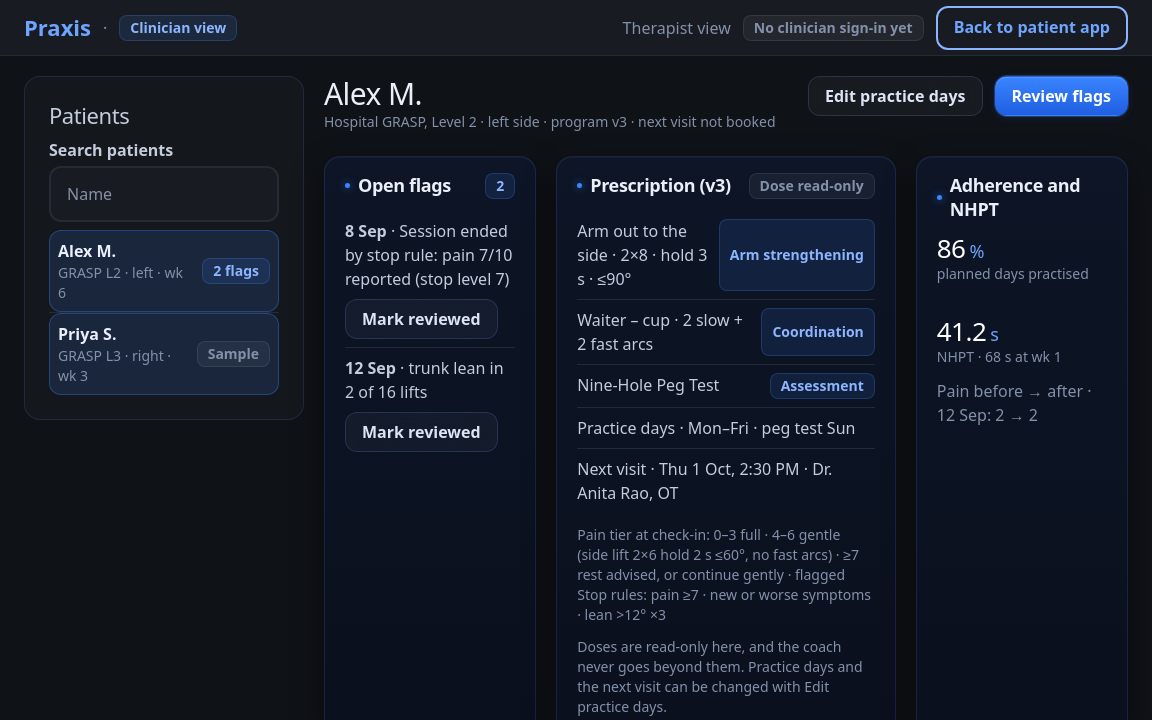
Test: a refused schedule save says therapist only and that nothing changed; the dialog stays open
Expected: the heading "Alex M." is shown, [324,73,422,114]
Expected: the element named "Prescription" shows "Practice days · Mon–Fri · peg test Sun", [577,211,875,717]
Click the button "Edit practice days" at (895, 96), box [808,76,982,116]
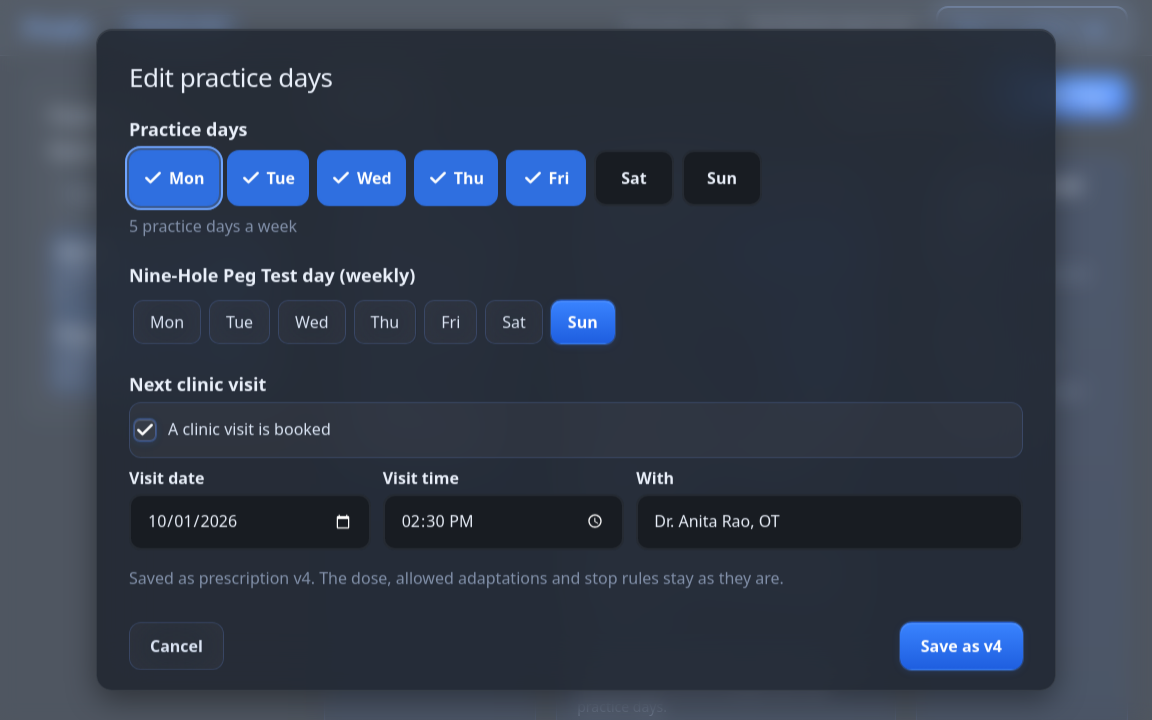
Click the button "Tue" at (268, 178), box [226,150,309,206]
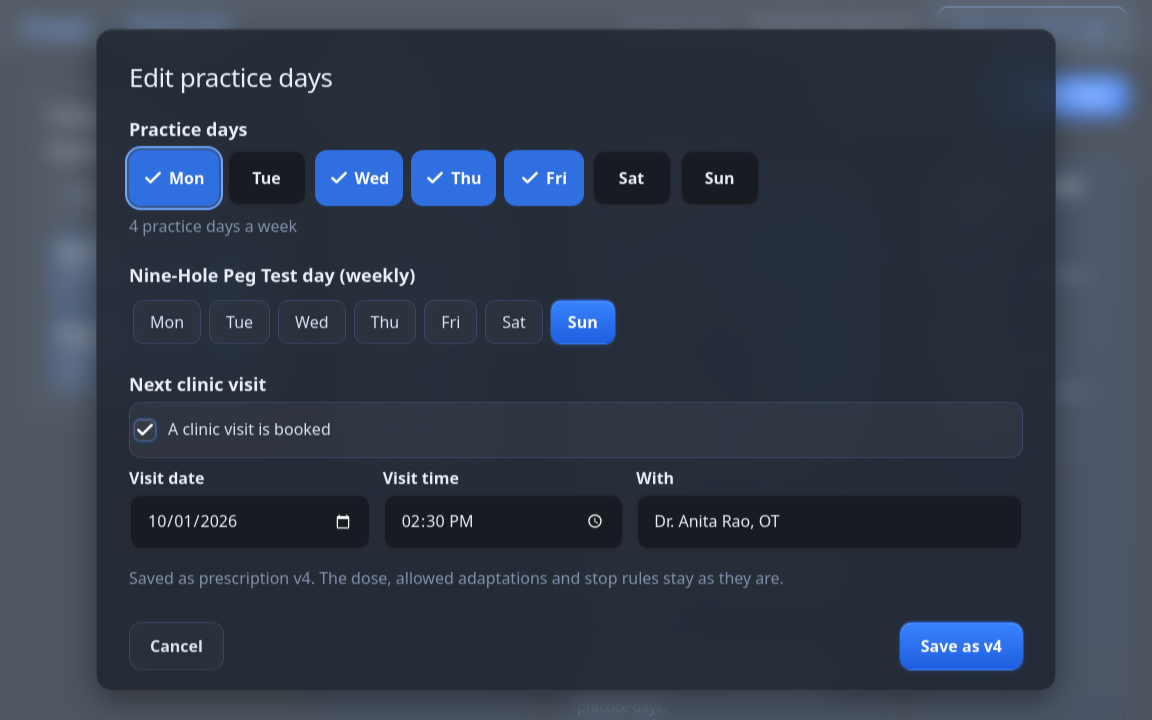
Click the button "Save as v4" at (961, 645), box [900,621,1023,669]
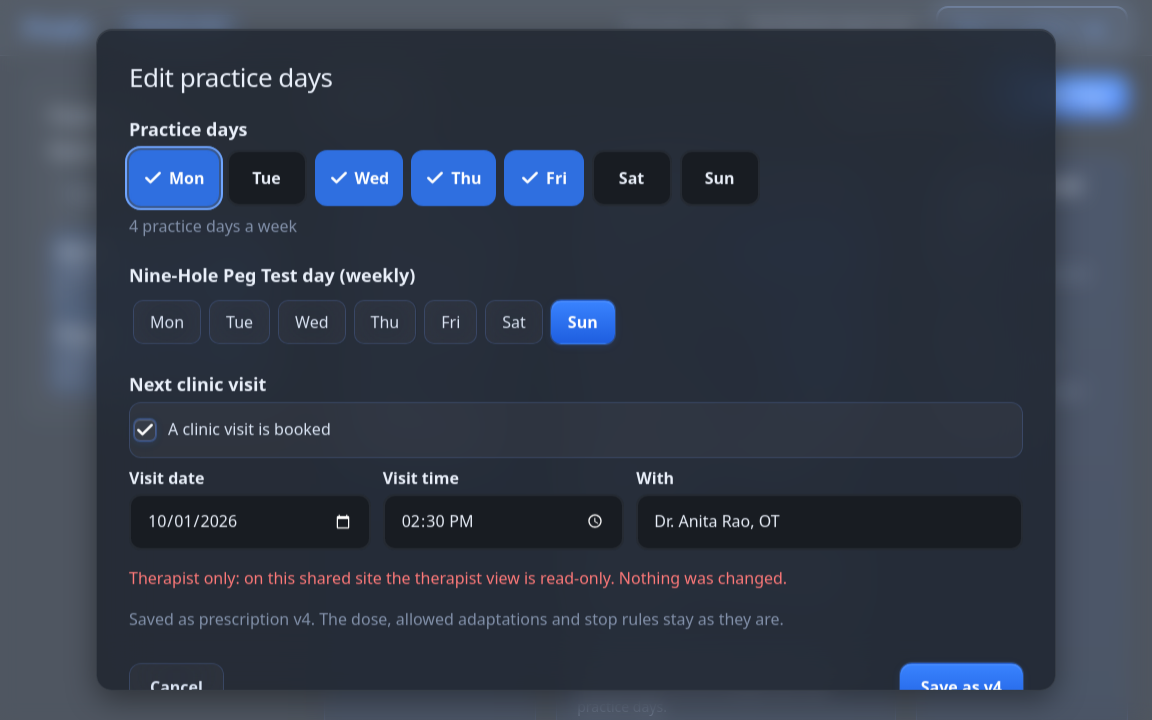
Now the dialog "Edit practice days" is shown
Now the message shows "Therapist only", box [129,566,787,588]
Now the message shows "Nothing was changed", box [129,566,787,588]
